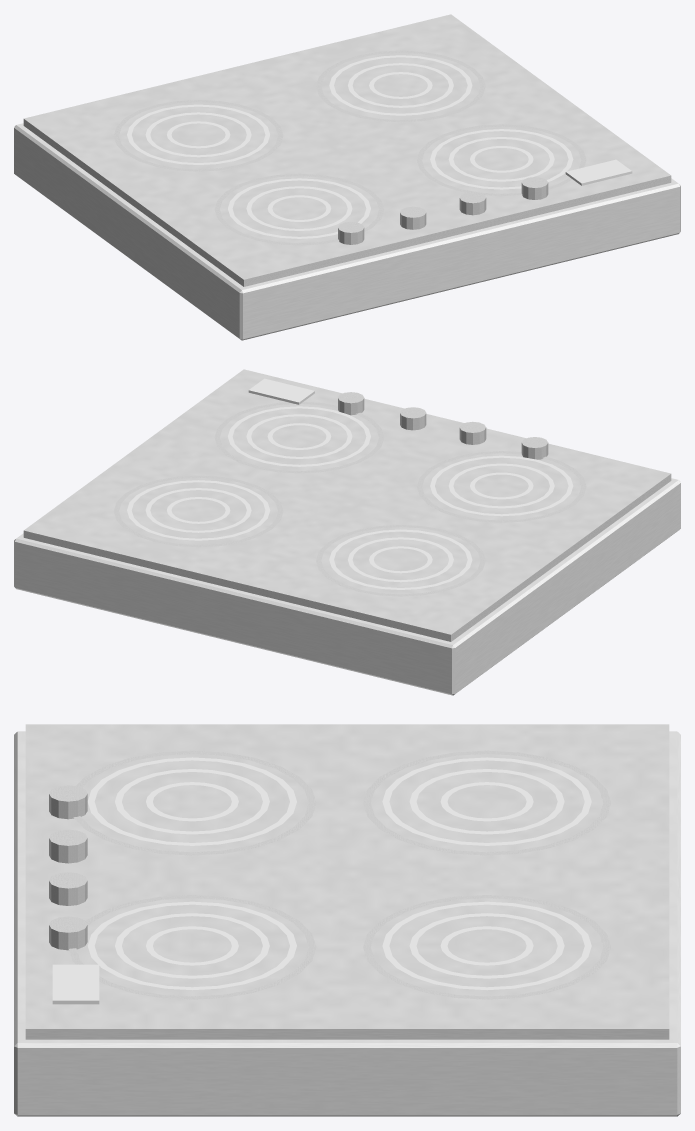
The model's file is kitchenflatstove.obj.
3 views of the same model, one above another, from view 1: azimuth 30°, elevation 25°; view 2: azimuth 150°, elevation 25°; view 3: azimuth 270°, elevation 25° (orthographic). The views are drawn at different scales.
Visible parts, largest first — view 1: Black, Case, Heat, Trim, Display; view 2: Black, Case, Heat, Trim, Display; view 3: Black, Case, Heat, Trim, Display.
Part boxes in pixels (box(x1,y1,x2,y2)): Black: box(23, 14, 671, 286); Case: box(14, 123, 680, 340); Heat: box(127, 55, 573, 238); Trim: box(113, 50, 586, 245); Display: box(565, 159, 632, 185); Black: box(23, 369, 671, 641); Case: box(14, 478, 680, 695); Heat: box(127, 406, 573, 589); Trim: box(113, 392, 586, 596); Display: box(248, 378, 314, 404); Black: box(25, 724, 669, 1039); Case: box(14, 731, 680, 1116); Heat: box(87, 757, 591, 990); Trim: box(49, 750, 610, 999); Display: box(52, 964, 99, 1004).
Size of the model in its own units: 0.96 by 0.145 by 0.86.
